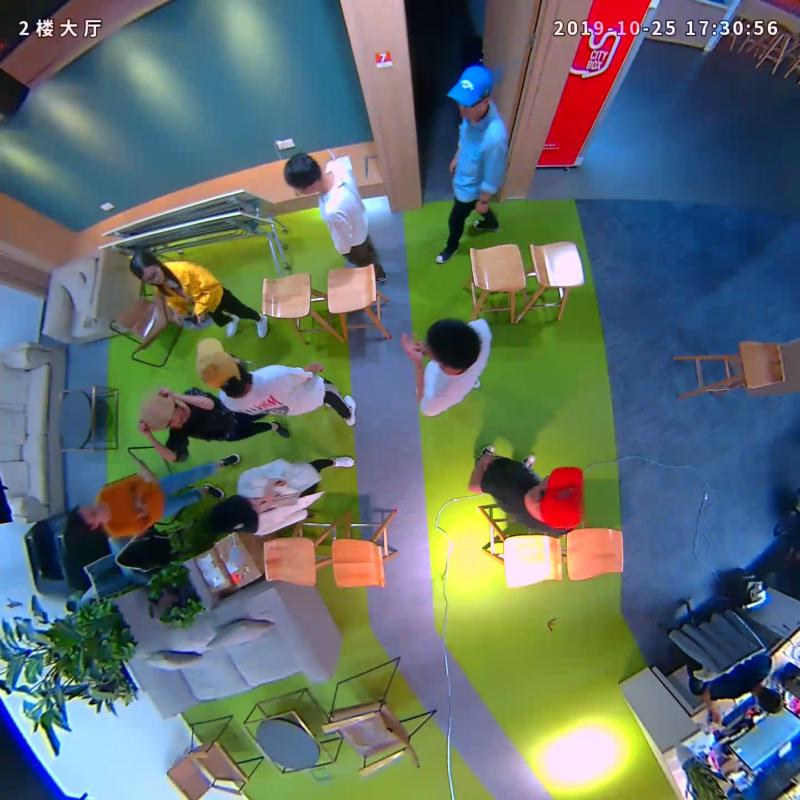head: (424, 317, 482, 371), (538, 466, 585, 530), (195, 337, 248, 392), (447, 64, 496, 122), (210, 495, 264, 534), (139, 391, 188, 430), (282, 151, 321, 196), (128, 249, 166, 287), (66, 502, 105, 535)
